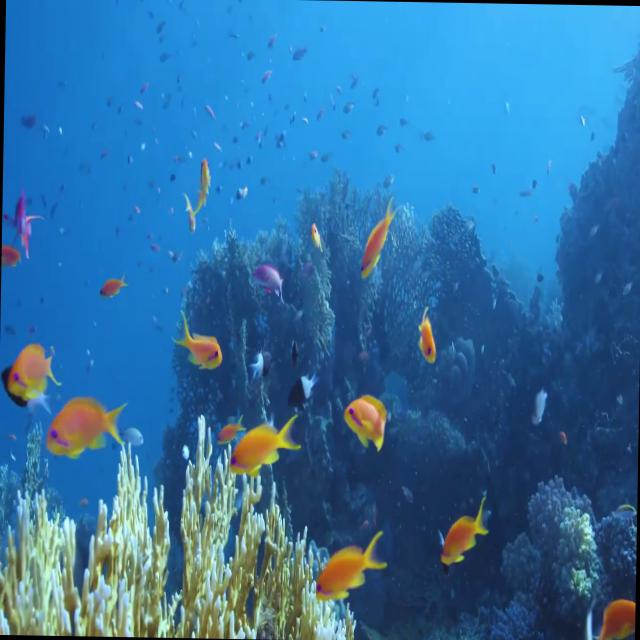fish: (312, 514, 391, 604), (36, 388, 132, 458), (222, 404, 304, 478), (339, 366, 393, 462), (2, 331, 67, 406), (354, 188, 400, 284), (434, 491, 492, 565), (168, 304, 230, 371), (585, 571, 635, 640), (411, 298, 442, 379), (5, 189, 42, 256), (187, 151, 214, 219), (524, 376, 553, 437), (285, 359, 319, 408), (174, 184, 203, 235), (94, 266, 129, 302)
